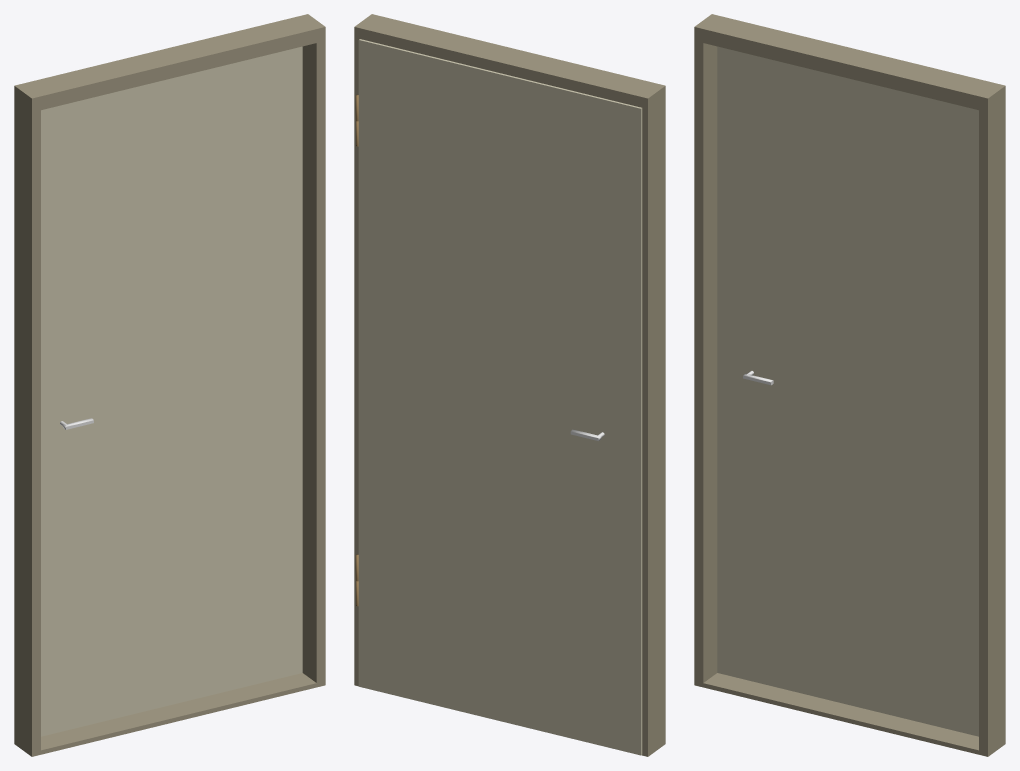
File: door.dae
3 renders of one model, left to right at view 1: azimuth 30°, elevation 25°; view 2: azimuth 150°, elevation 25°; view 3: azimuth 330°, elevation 25°, orthographic.
Parts seen in each view (by area): view 1: Door, Frame; view 2: Door, Frame; view 3: Door, Frame.
Boxes of the visible parts, left/top/right/bottom form: Door: left=41, top=46, right=302, bottom=736; Frame: left=14, top=14, right=325, bottom=756; Door: left=355, top=39, right=642, bottom=755; Frame: left=354, top=14, right=665, bottom=756; Door: left=717, top=46, right=978, bottom=736; Frame: left=694, top=14, right=1005, bottom=756.
Size of the model in its own units: 0.9268 by 0.1402 by 1.99.
